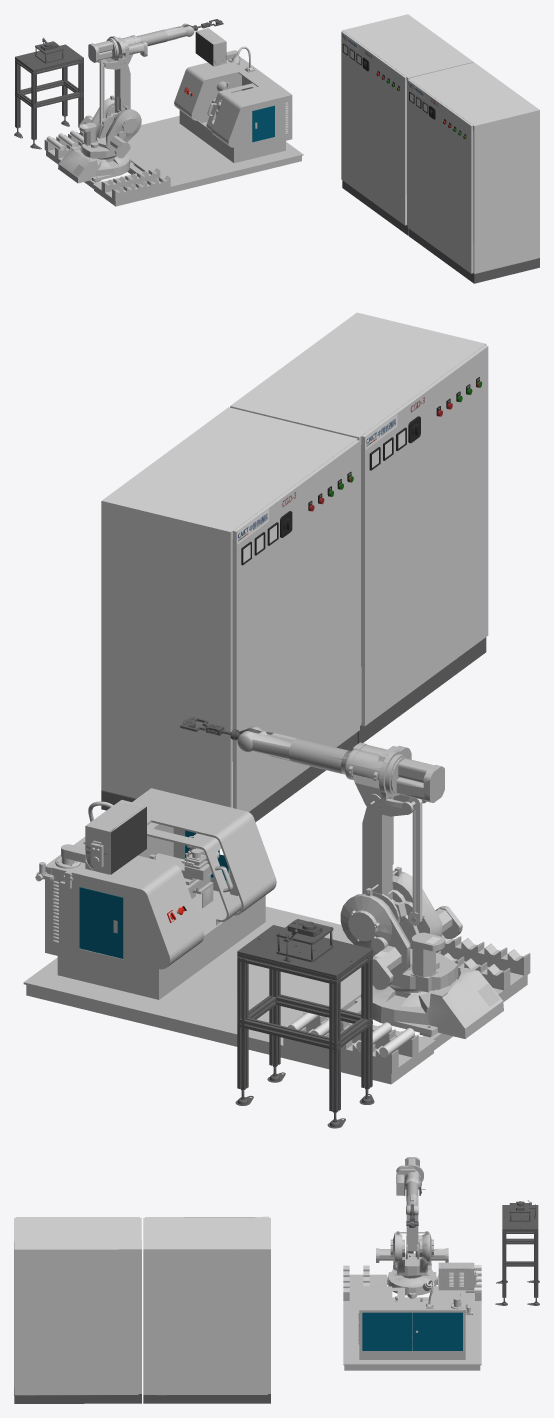
Rendered from che.fbx.
3 renders of one model, top to bottom at view 1: azimuth 30°, elevation 25°; view 2: azimuth 150°, elevation 25°; view 3: azimuth 270°, elevation 25°, orthographic. The views are drawn at different scales.
Visible parts, largest first — view 1: dianxiang__1_, dianxiang, group2_skcc_tongxinyuan_object_2885, polySurface1, ffff1, group2_skcc_tongxinyuan_object_2528, polySurface259, group2_skcc_tongxinyuan_object_2933, polySurface2, group2_skcc_tongxinyuan_object_102, polySurface54, group2_skcc_tongxinyuan_object_120 (+1 smaller); view 2: dianxiang, dianxiang__1_, group2_skcc_tongxinyuan_object_2885, polySurface1, ffff1, group2_skcc_tongxinyuan_object_2528, polySurface259, group2_skcc_tongxinyuan_object_2933, group2_skcc_tongxinyuan_object_3226, polySurface54, group2_skcc_tongxinyuan_object_96, group2_skcc_tongxinyuan_object_120; view 3: dianxiang, dianxiang__1_, group2_skcc_tongxinyuan_object_2885, polySurface1, ffff1, group2_skcc_tongxinyuan_object_92, group2_skcc_tongxinyuan_object_93, group2_skcc_tongxinyuan_object_2528, polySurface259, polySurface54, group2_skcc_tongxinyuan_object_2933.
Boxes of the visible parts, bbox=[...] form: dianxiang__1_: bbox=[407, 62, 539, 283]; dianxiang: bbox=[341, 14, 473, 235]; group2_skcc_tongxinyuan_object_2885: bbox=[44, 115, 303, 206]; polySurface1: bbox=[174, 56, 292, 163]; ffff1: bbox=[14, 37, 83, 149]; group2_skcc_tongxinyuan_object_2528: bbox=[79, 95, 141, 159]; polySurface259: bbox=[88, 23, 194, 69]; group2_skcc_tongxinyuan_object_2933: bbox=[99, 59, 130, 126]; polySurface2: bbox=[192, 73, 241, 122]; group2_skcc_tongxinyuan_object_102: bbox=[252, 105, 274, 142]; polySurface54: bbox=[196, 28, 226, 66]; group2_skcc_tongxinyuan_object_120: bbox=[195, 32, 213, 65]; dianxiang: bbox=[101, 407, 359, 822]; dianxiang__1_: bbox=[230, 312, 488, 743]; group2_skcc_tongxinyuan_object_2885: bbox=[23, 906, 530, 1084]; polySurface1: bbox=[45, 788, 276, 999]; ffff1: bbox=[235, 919, 374, 1128]; group2_skcc_tongxinyuan_object_2528: bbox=[340, 866, 462, 992]; polySurface259: bbox=[237, 726, 444, 816]; group2_skcc_tongxinyuan_object_2933: bbox=[362, 797, 424, 925]; group2_skcc_tongxinyuan_object_3226: bbox=[79, 887, 123, 958]; polySurface54: bbox=[85, 800, 146, 874]; group2_skcc_tongxinyuan_object_96: bbox=[147, 822, 241, 925]; group2_skcc_tongxinyuan_object_120: bbox=[111, 807, 146, 874]; dianxiang: bbox=[143, 1216, 270, 1403]; dianxiang__1_: bbox=[14, 1217, 141, 1403]; group2_skcc_tongxinyuan_object_2885: bbox=[343, 1260, 481, 1370]; polySurface1: bbox=[358, 1286, 466, 1359]; ffff1: bbox=[495, 1200, 539, 1305]; group2_skcc_tongxinyuan_object_92: bbox=[362, 1312, 412, 1350]; group2_skcc_tongxinyuan_object_93: bbox=[412, 1312, 462, 1350]; group2_skcc_tongxinyuan_object_2528: bbox=[376, 1231, 448, 1278]; polySurface259: bbox=[396, 1157, 425, 1215]; polySurface54: bbox=[438, 1262, 477, 1290]; group2_skcc_tongxinyuan_object_2933: bbox=[406, 1215, 418, 1259].
Bounding box in the file's own units: 28.54 × 49.44 × 16.
